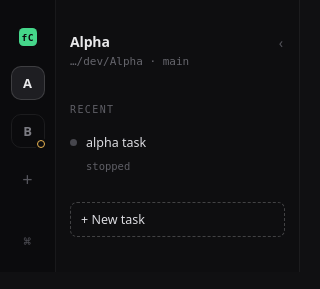
it: Nav rail → flyout › collapses the flyout from its own control
This screenshot has width=320, height=289.
Click the button named "Collapse project flyout" at {"x": 281, "y": 42}, box [277, 32, 285, 52]
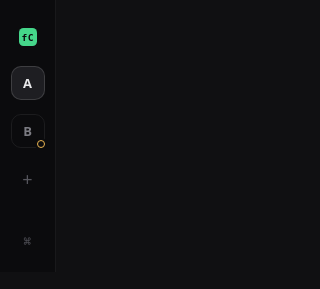
Result: the button "alpha task" is gone
